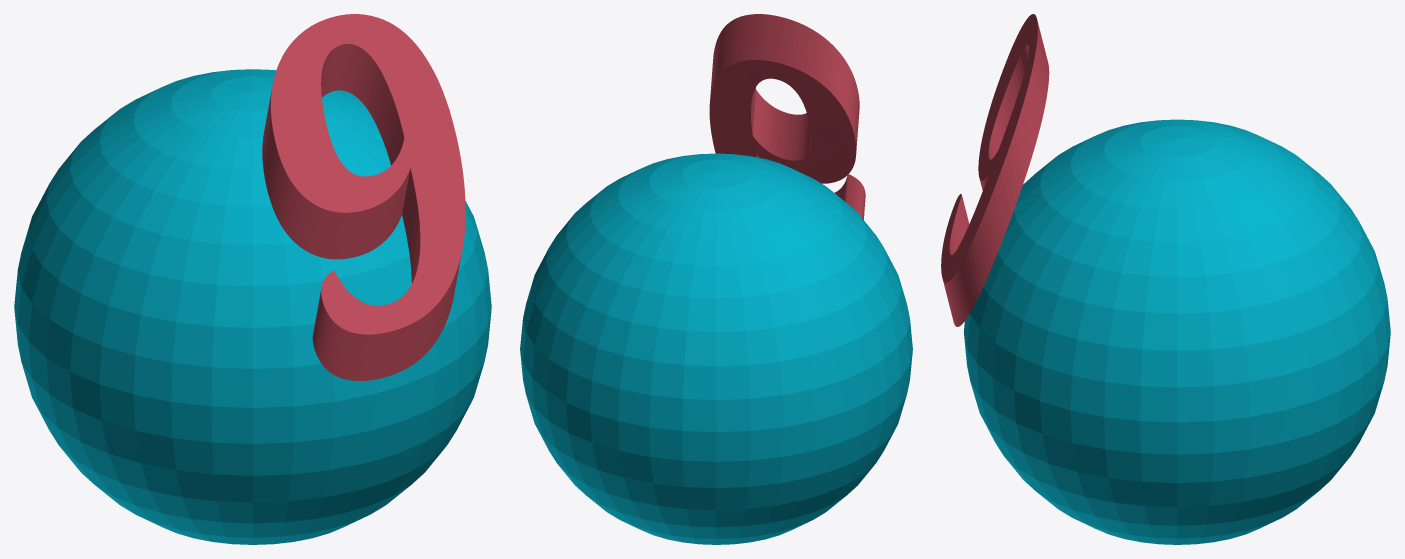
File: number_9.glb
The picture shows the model from 3 angles, left to right: view 1: azimuth 30°, elevation 25°; view 2: azimuth 150°, elevation 25°; view 3: azimuth 270°, elevation 25°; orthographic projection. The views are drawn at different scales.
Parts seen in each view (by area): view 1: Mesh_Mesh_head_geo.001_lambert2SG.001; view 2: Mesh_Mesh_head_geo.001_lambert2SG.001; view 3: Mesh_Mesh_head_geo.001_lambert2SG.001.
Boxes of the visible parts, box(x1,y1,x2,y2) form: Mesh_Mesh_head_geo.001_lambert2SG.001: box(14, 14, 491, 544); Mesh_Mesh_head_geo.001_lambert2SG.001: box(520, 14, 912, 544); Mesh_Mesh_head_geo.001_lambert2SG.001: box(941, 14, 1390, 544).
Size of the model in its own units: 20 by 26.03 by 21.06.
